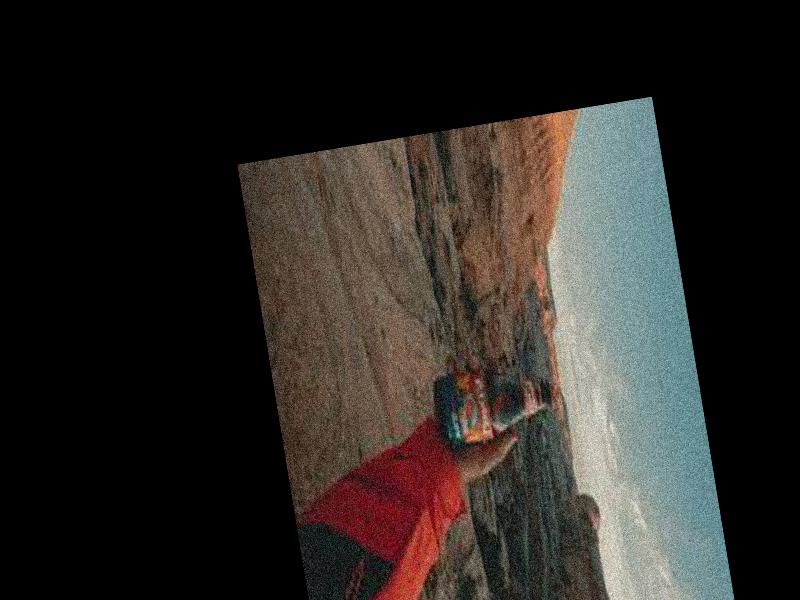Beer: (431, 356, 558, 455)
